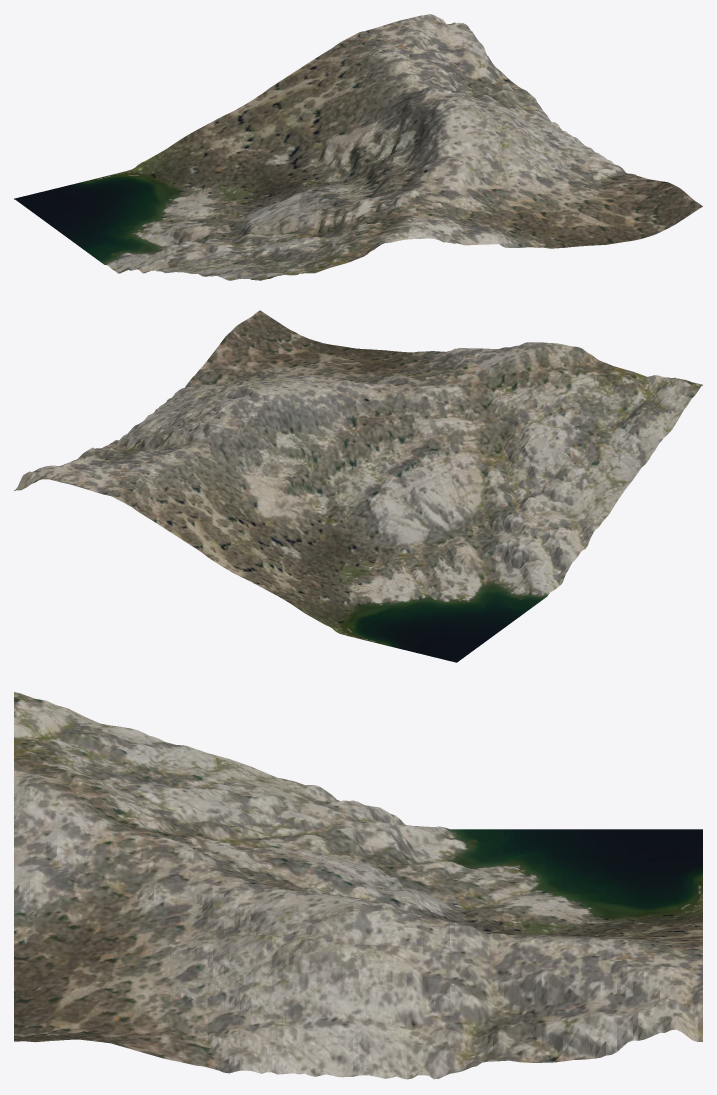
The picture shows the model from 3 angles, top to bottom: view 1: azimuth 30°, elevation 25°; view 2: azimuth 150°, elevation 25°; view 3: azimuth 270°, elevation 25°; orthographic projection. The views are drawn at different scales.
Size of the model in its own units: 500 by 116 by 481.
1 material, 1 textured.
